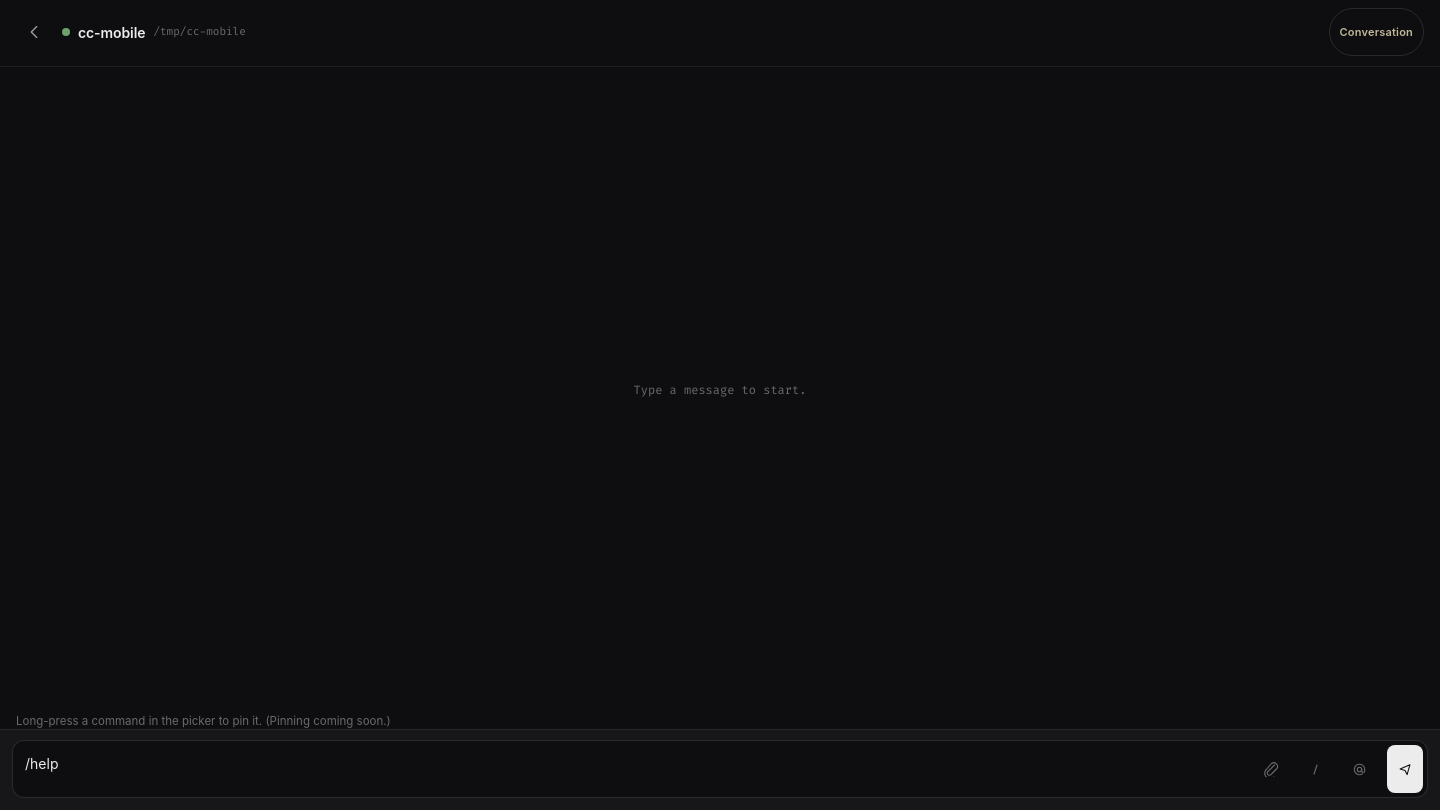
Test: PickerSheetUnavailableRetry › T4: pressing retry puts the sheet back into Loading…
Click the button named "Insert slash command" at (1315, 769), box [1297, 745, 1333, 793]
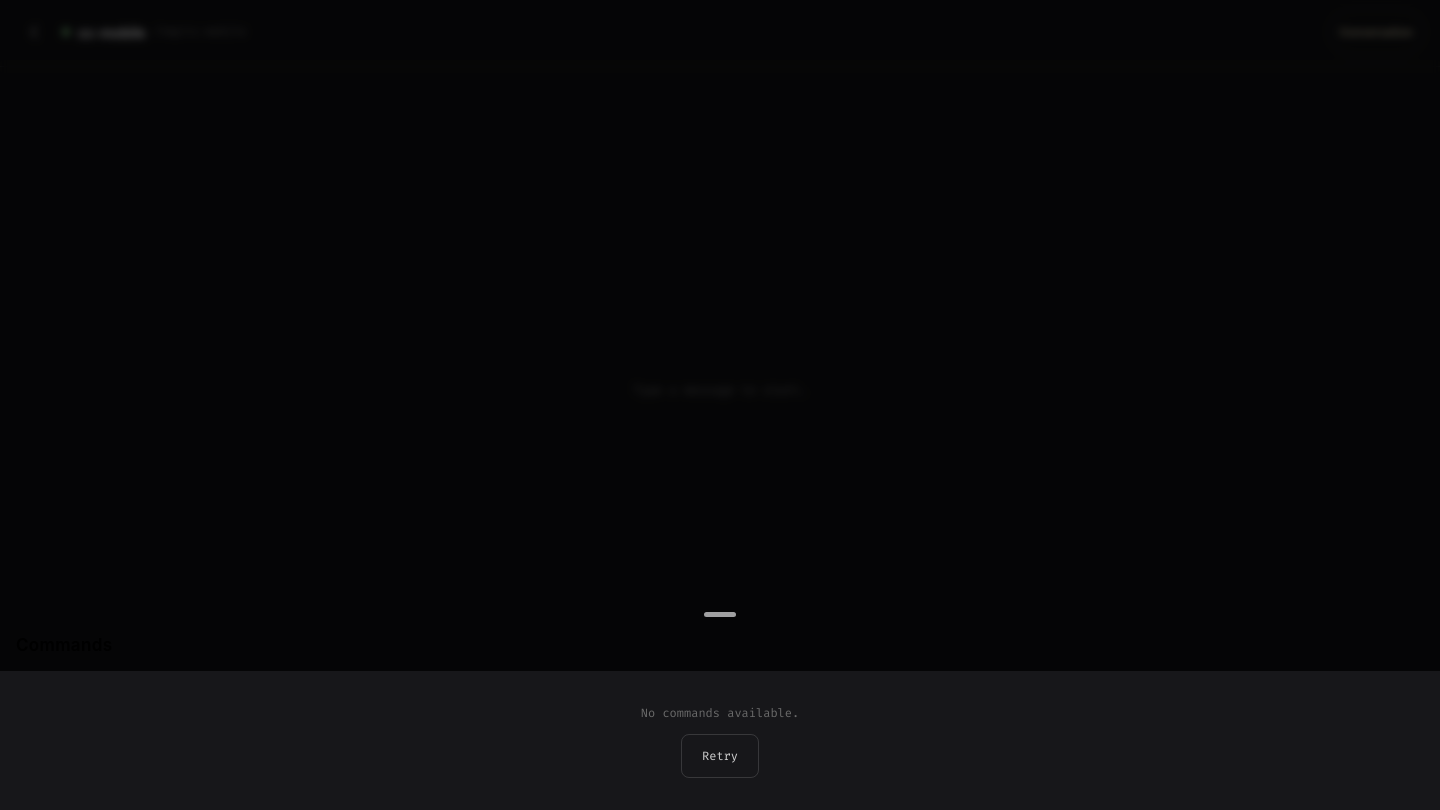
Click the button "Retry" at (720, 755), box [681, 733, 759, 777]
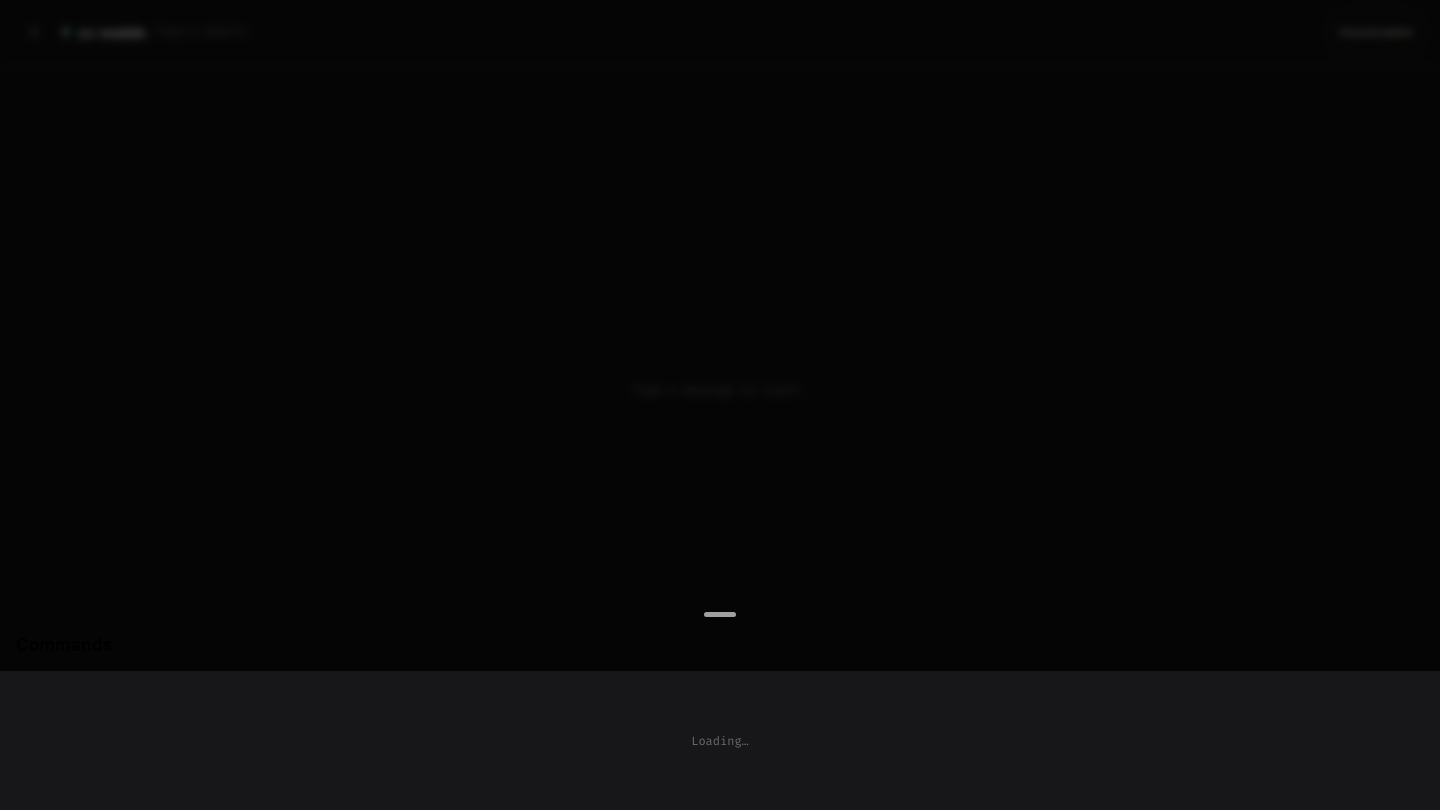
Expected: the text "Loading…" is shown, [691, 732, 749, 748]
